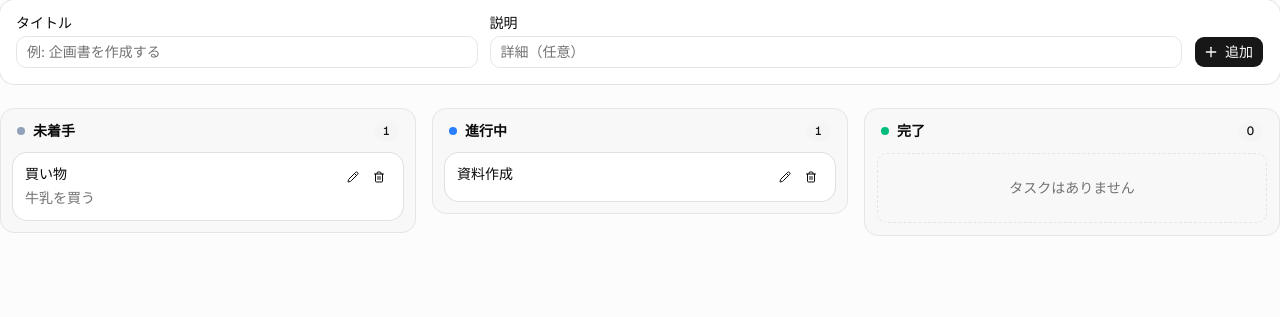
it: 追加 › タイトルが空のまま追加するとエラーが表示され送信されない
Click the button "追加".
click(1229, 52)  # box [1194, 36, 1264, 68]
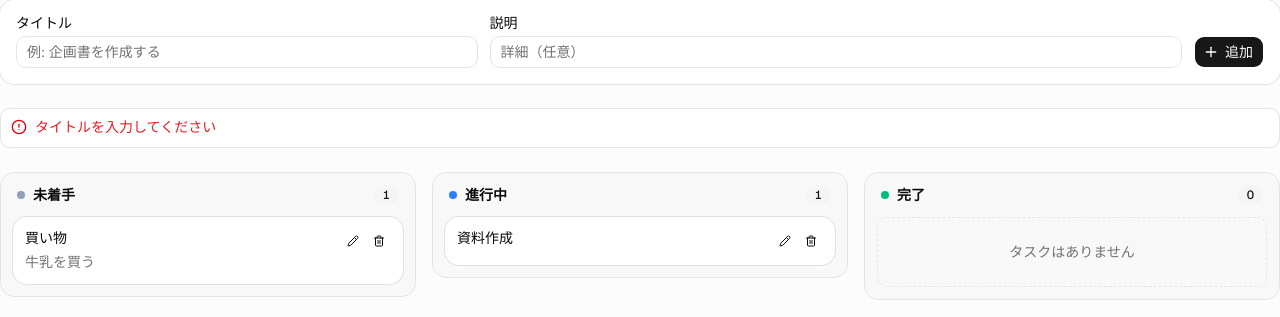
Result: the message reads "タイトルを入力してください" at [35, 118, 216, 136]
